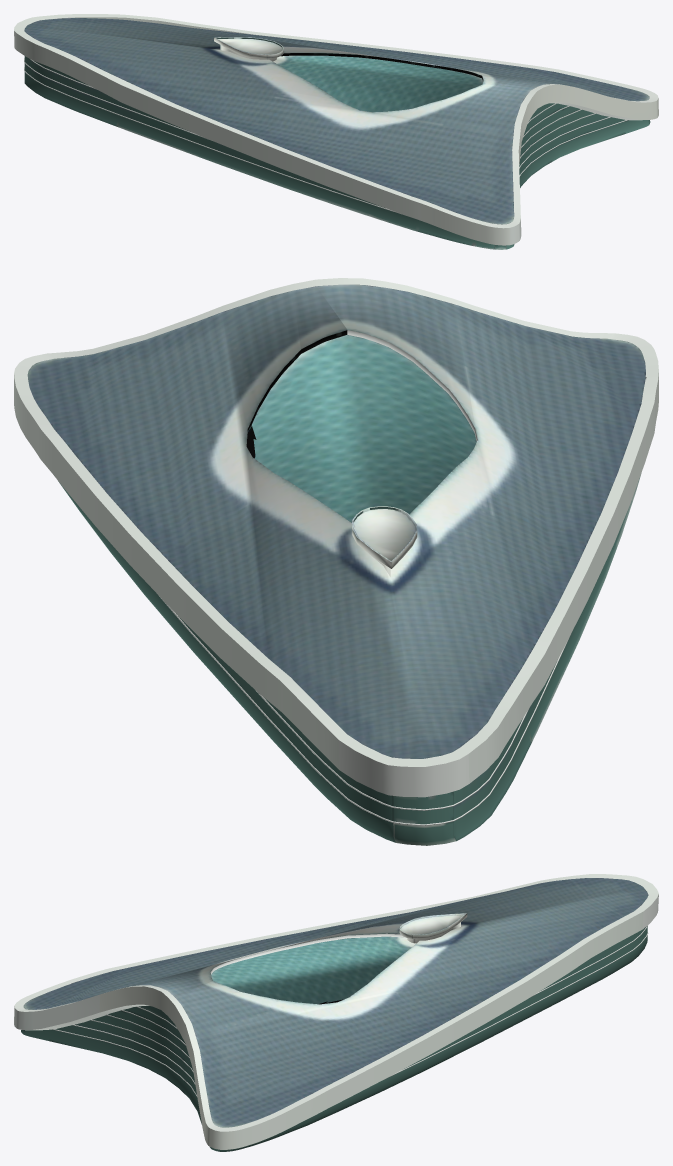
Rendered from terminal2_traffic_center.gltf.
3 renders of one model, top to bottom at view 1: azimuth 30°, elevation 25°; view 2: azimuth 150°, elevation 25°; view 3: azimuth 270°, elevation 25°, orthographic. The views are drawn at different scales.
Parts seen in each view (by area): view 1: node_1; view 2: node_1; view 3: node_1.
Boxes of the visible parts, box(x1,y1,x2,y2) form: node_1: box(14, 14, 658, 249); node_1: box(14, 278, 658, 845); node_1: box(14, 874, 658, 1151).
Bounding box in the file's own units: 107 × 19.39 × 128.
